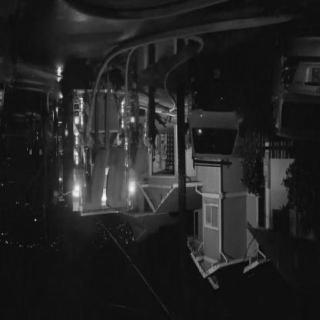other: (120, 171, 142, 210)
